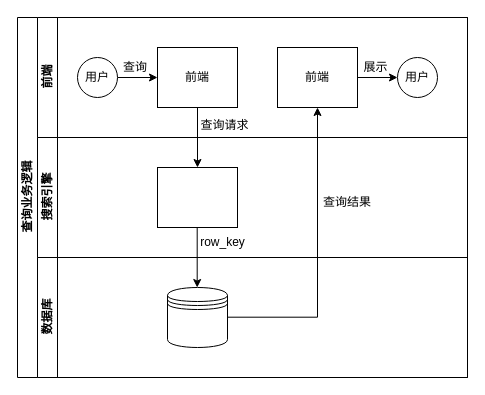
Some shapes in this 485 by 395 pixel diagram are drawn without their labels. The shapes that lost their labels are listed below. From the top down, each one's centre as x and y in pixels, then its label:
At point (197, 197): "搜索引擎 (ES, Milvus)".
At point (197, 317): "HBase".
